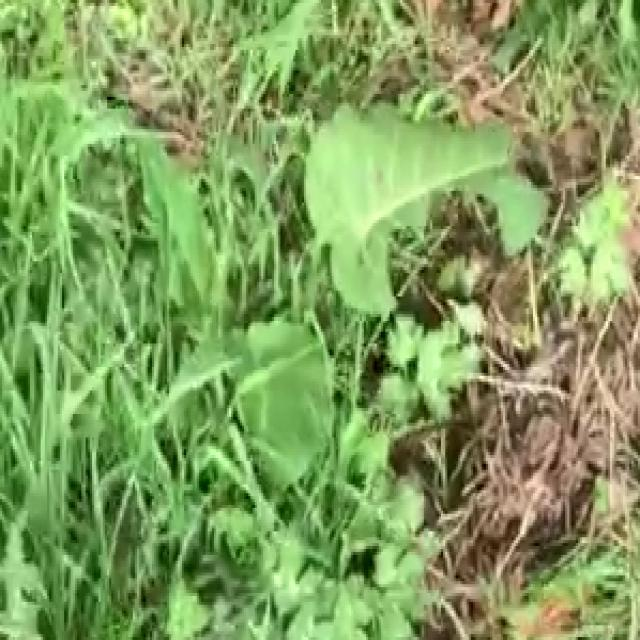organic waste: (101, 76, 584, 511)
